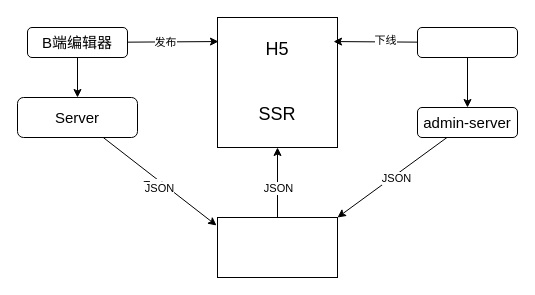
This 535x295 diagram has some shape labels left out. The centre of each missing label's shape, as x and y in pixels:
admin-fe: the point at 467,42
数据库: the point at 277,247
